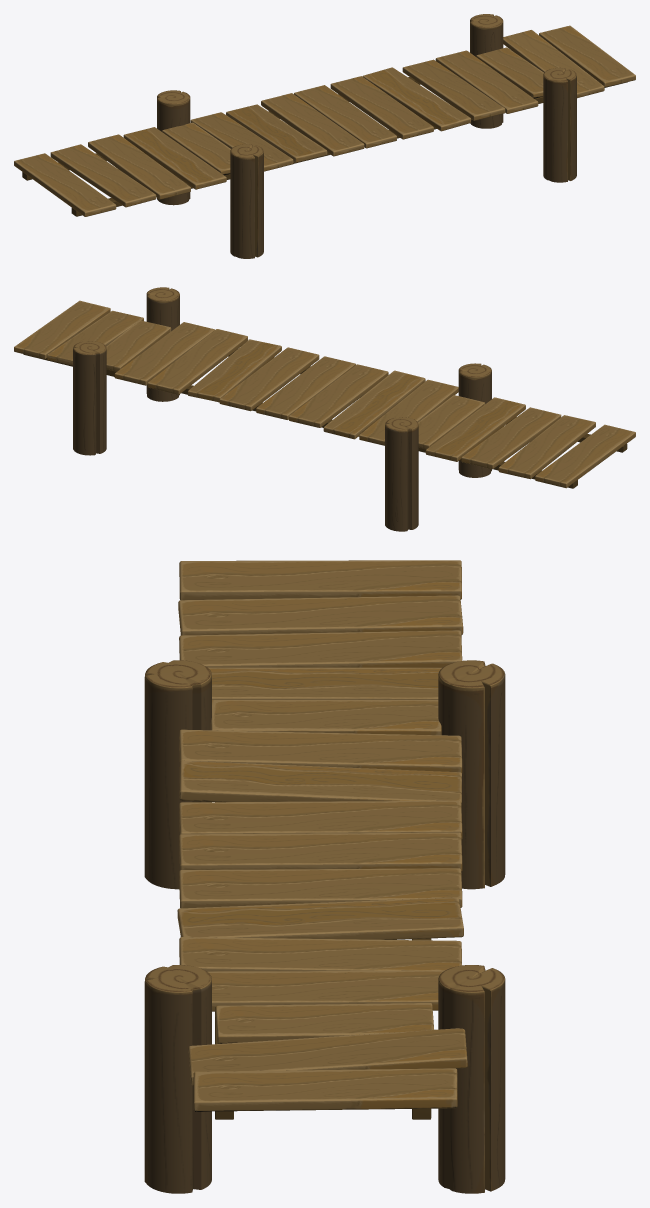
Rendered from Brygga_Modell.fbx.
The picture shows the model from 3 angles, top to bottom: view 1: azimuth 30°, elevation 25°; view 2: azimuth 150°, elevation 25°; view 3: azimuth 270°, elevation 25°; orthographic projection. The views are drawn at different scales.
Visible parts, largest first — view 1: pCube36; view 2: pCube36; view 3: pCube36.
Boxes of the visible parts, x1,y1,x2,y2 form: pCube36: [14, 14, 635, 258]; pCube36: [14, 287, 635, 531]; pCube36: [144, 560, 505, 1193].
Size of the model in its own units: 11.49 by 2 by 3.24.
1 material, 1 textured.
